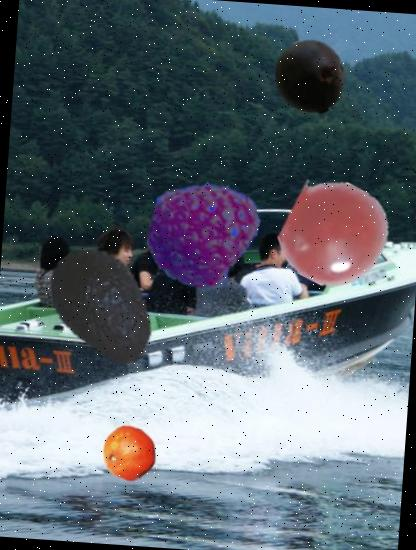Avocado: (35, 239, 172, 376)
Clementine: (98, 423, 160, 484)
Plum: (270, 36, 352, 118)
Raspberry: (144, 176, 260, 292)
Redcurrant: (278, 178, 390, 290)
